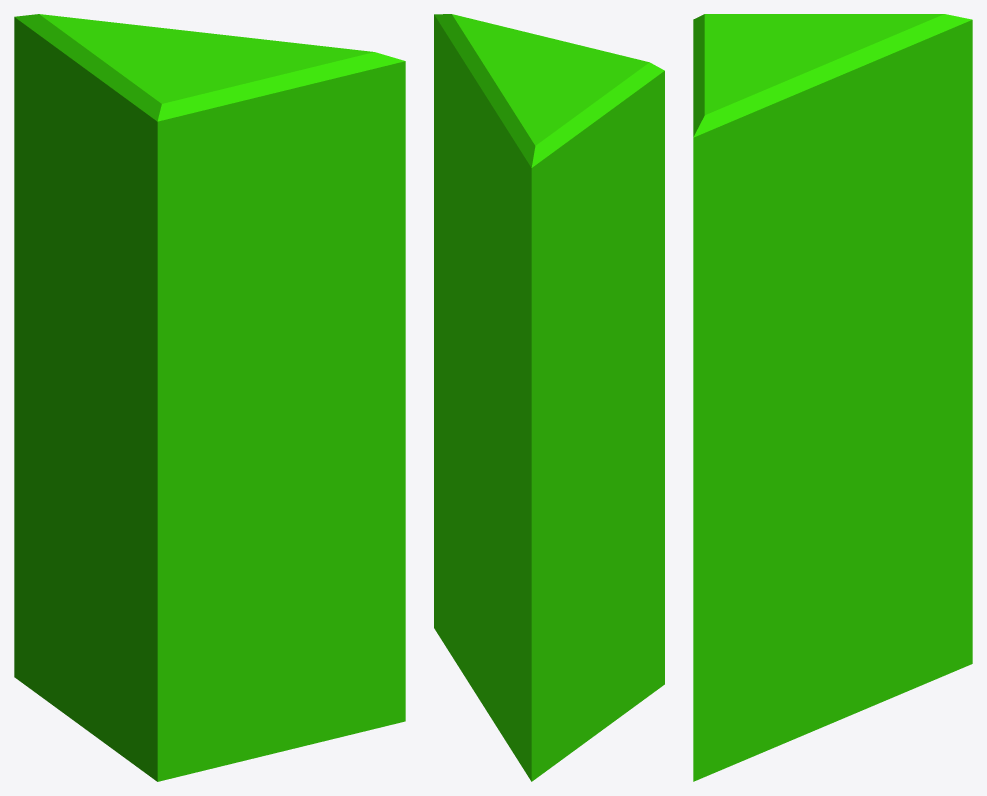
The model's file is diagonal_1x3.fbx.
The picture shows the model from 3 angles, left to right: view 1: azimuth 30°, elevation 25°; view 2: azimuth 150°, elevation 25°; view 3: azimuth 270°, elevation 25°; orthographic projection. The views are drawn at different scales.
Parts seen in each view (by area): view 1: diagonal_1x3; view 2: diagonal_1x3; view 3: diagonal_1x3.
Boxes of the visible parts, left/top/right/bottom form: diagonal_1x3: left=14, top=14, right=405, bottom=781; diagonal_1x3: left=434, top=14, right=664, bottom=781; diagonal_1x3: left=693, top=14, right=972, bottom=781.
Bounding box in the file's own units: 120 × 310 × 120.
